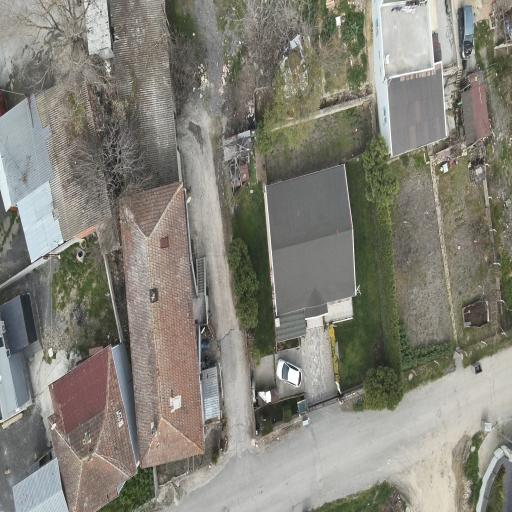car: (458, 6, 474, 60), (276, 360, 302, 387)
